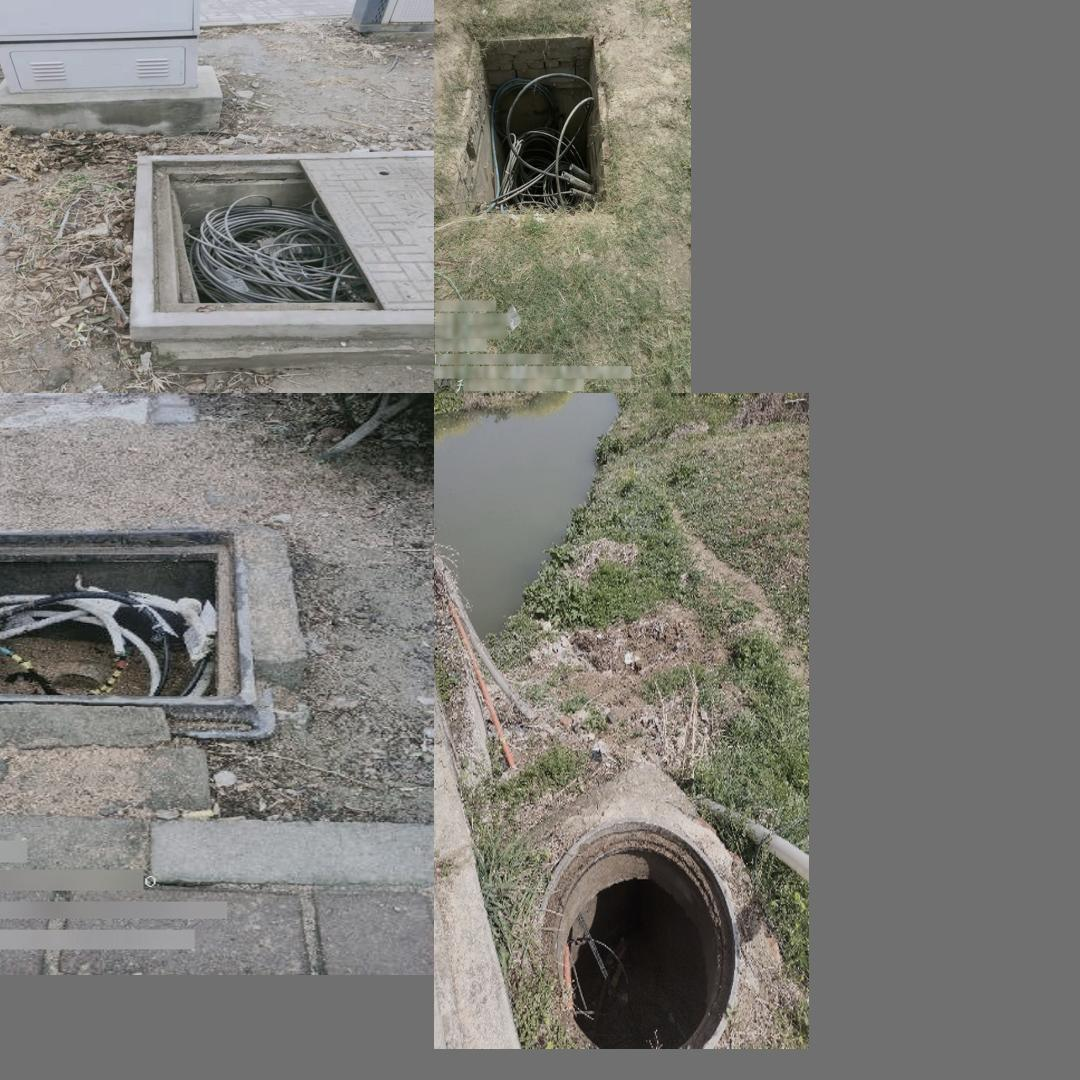lose: (127, 150, 432, 341), (0, 526, 254, 715), (524, 829, 739, 1041), (452, 29, 612, 217)
